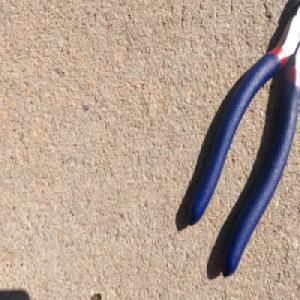Pliers: (186, 0, 300, 280)
